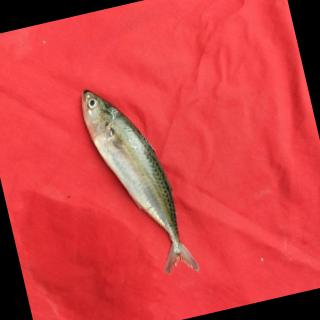Ikan: (57, 56, 225, 298)
